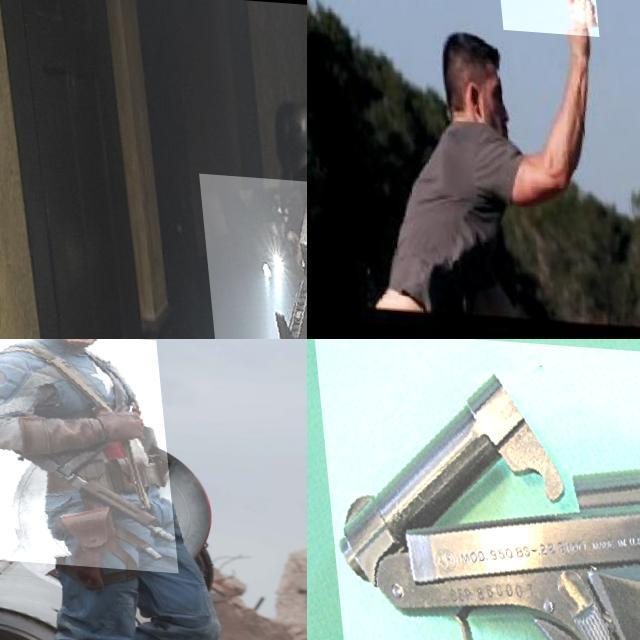-: (487, 0, 593, 71)
gun-knife-thesis - v11 Yolov5 augmented: (313, 339, 640, 640), (0, 339, 171, 567), (195, 169, 307, 339)
